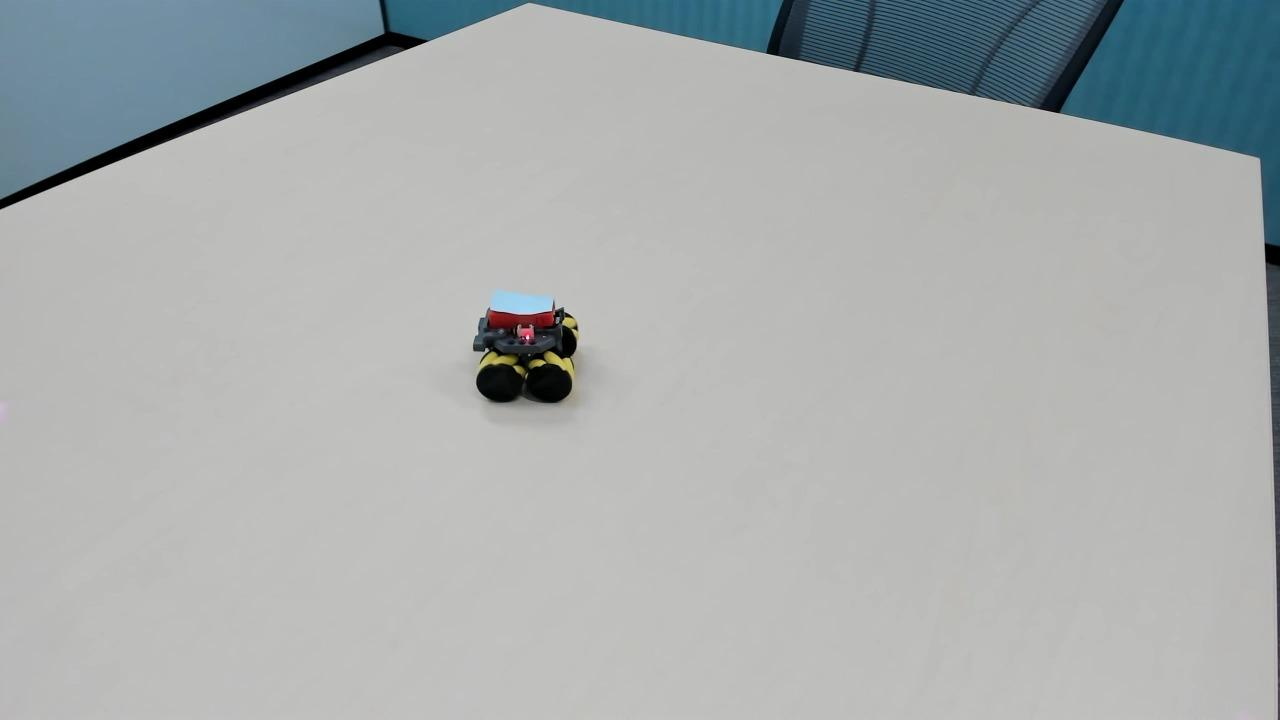B-Robot: (466, 275, 606, 425)
